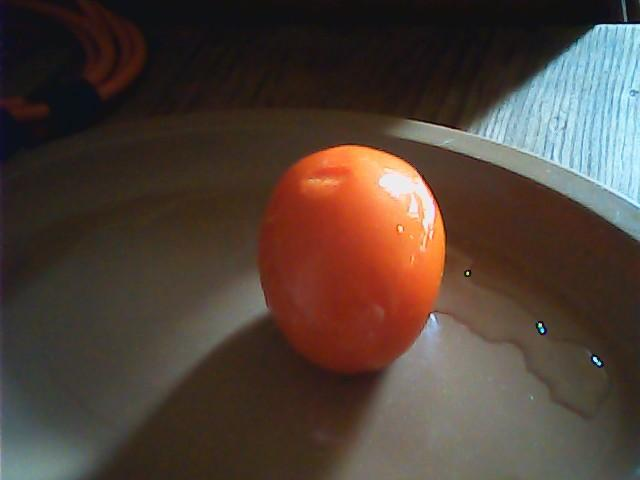maduro: (252, 144, 449, 391)
